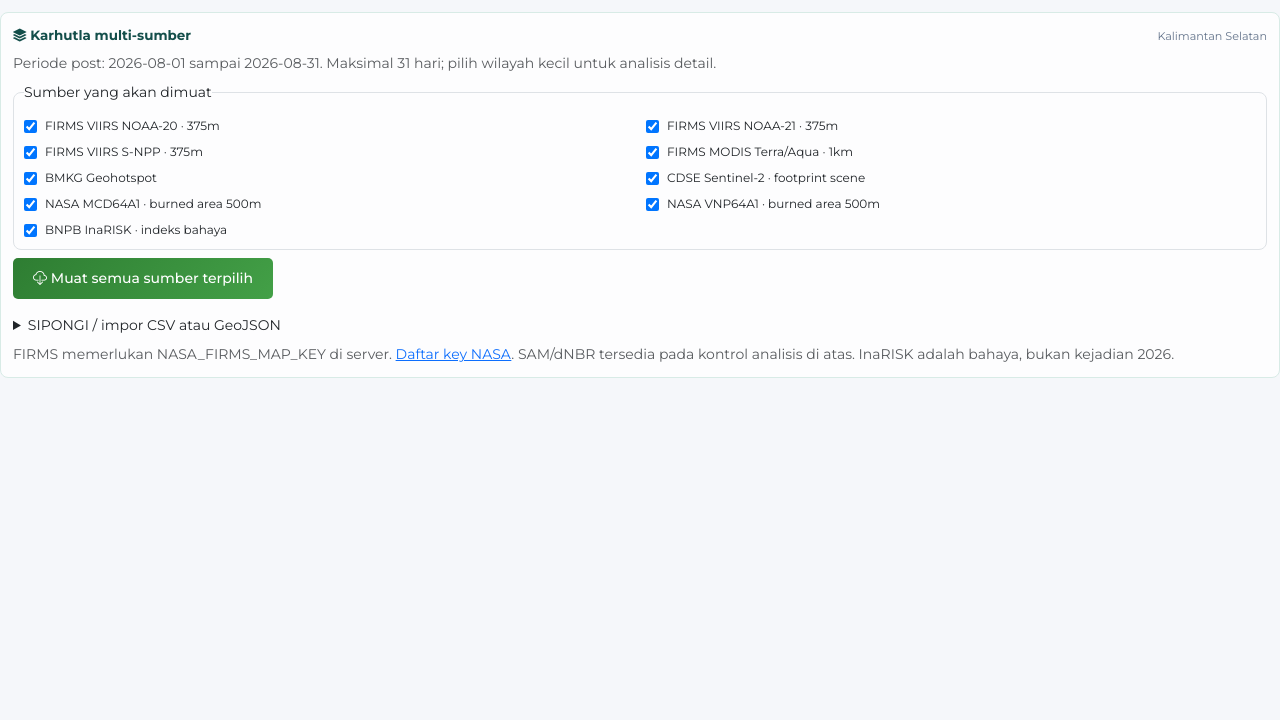
Test: multi-source wildfire controls › renders source-specific failures alongside successful layers
Click the button "Muat semua sumber terpilih" at [143, 279], box [13,258,273,299]
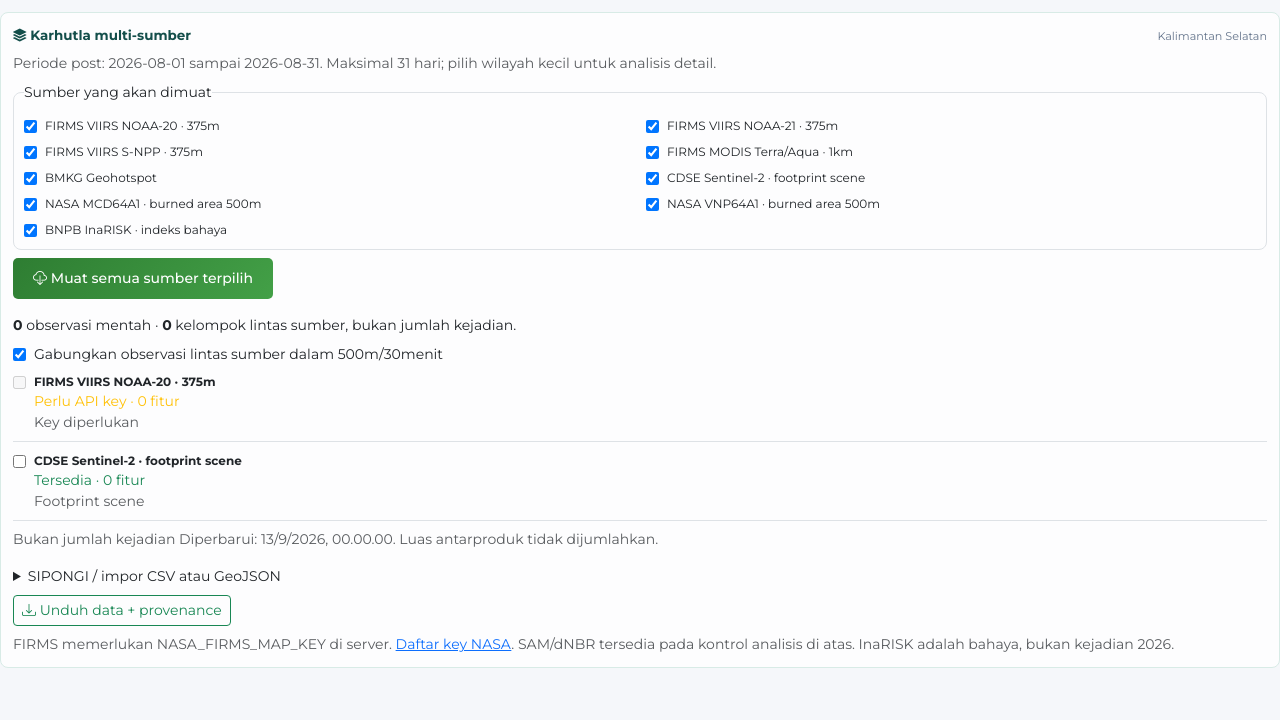
Expected: the text "Perlu API key · 0 fitur" is shown, [34,392,180,410]
Expected: the text "Tersedia · 0 fitur" is shown, [34,471,145,489]
